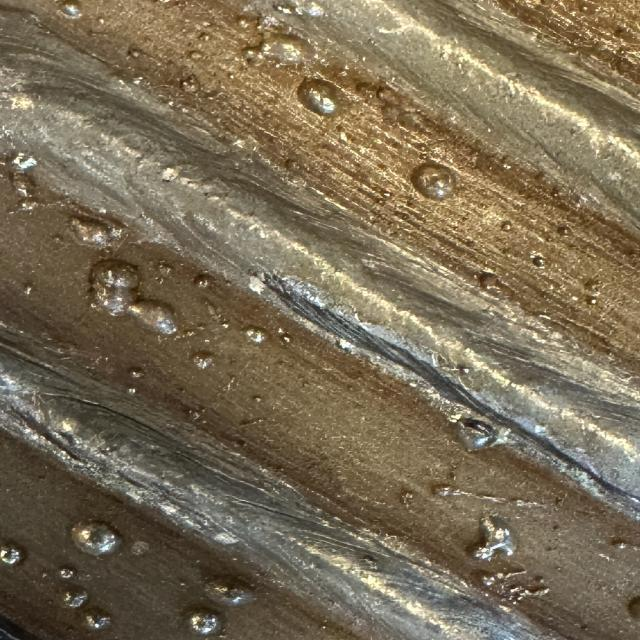Spatters: (90, 260, 177, 334), (480, 569, 550, 604), (243, 34, 313, 64), (473, 515, 515, 560), (412, 162, 457, 200), (70, 216, 123, 248), (72, 522, 120, 556), (262, 35, 312, 64), (298, 79, 338, 115), (182, 606, 225, 639), (458, 419, 497, 451), (205, 579, 253, 605), (433, 486, 507, 502), (55, 585, 87, 610), (79, 606, 110, 631), (0, 545, 23, 565), (14, 174, 32, 198), (155, 260, 173, 284), (477, 271, 500, 289), (180, 74, 200, 94), (192, 351, 213, 369), (245, 329, 265, 344), (62, 4, 82, 19), (193, 274, 212, 289), (400, 491, 413, 508), (187, 50, 207, 60), (58, 568, 75, 579), (20, 201, 38, 211), (127, 48, 143, 59), (130, 368, 145, 379), (557, 225, 572, 236), (532, 256, 545, 268), (188, 409, 202, 420), (500, 220, 512, 231), (515, 501, 538, 506), (282, 333, 292, 344), (585, 296, 597, 305), (198, 32, 210, 41), (252, 395, 262, 402), (129, 389, 137, 394)
